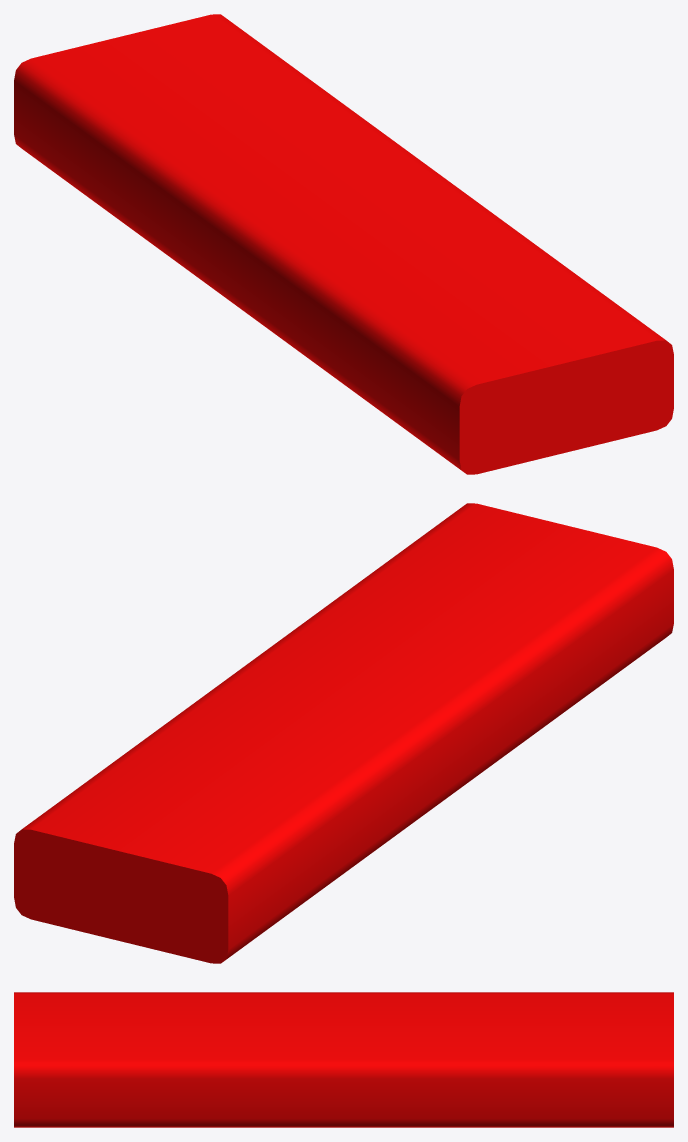
File: neon.obj
The picture shows the model from 3 angles, top to bottom: view 1: azimuth 30°, elevation 25°; view 2: azimuth 150°, elevation 25°; view 3: azimuth 270°, elevation 25°; orthographic projection. The views are drawn at different scales.
Parts seen in each view (by area): view 1: Neon; view 2: Neon; view 3: Neon.
Part boxes in pixels (x1=…): Neon: x1=14, y1=14, x2=673, y2=474; Neon: x1=14, y1=503, x2=673, y2=963; Neon: x1=14, y1=992, x2=673, y2=1127.
Size of the model in its own units: 19.69 by 7.87 by 70.87.
